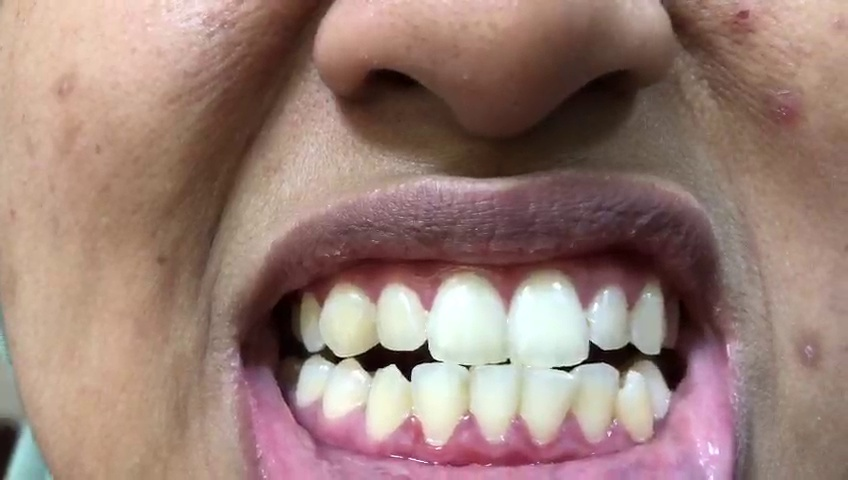1st Premolar: (323, 357, 368, 420), (633, 359, 670, 422), (293, 290, 323, 353)
2nd Premolar: (291, 356, 332, 404)
Canine: (317, 283, 378, 357), (367, 362, 412, 443), (630, 274, 666, 354), (616, 370, 654, 442)
Central Incisor: (508, 270, 592, 368), (426, 274, 508, 366), (469, 360, 521, 442), (521, 365, 569, 448)
Lateral Incisor: (412, 362, 470, 445), (375, 277, 426, 352), (574, 361, 618, 447), (587, 279, 631, 351)
